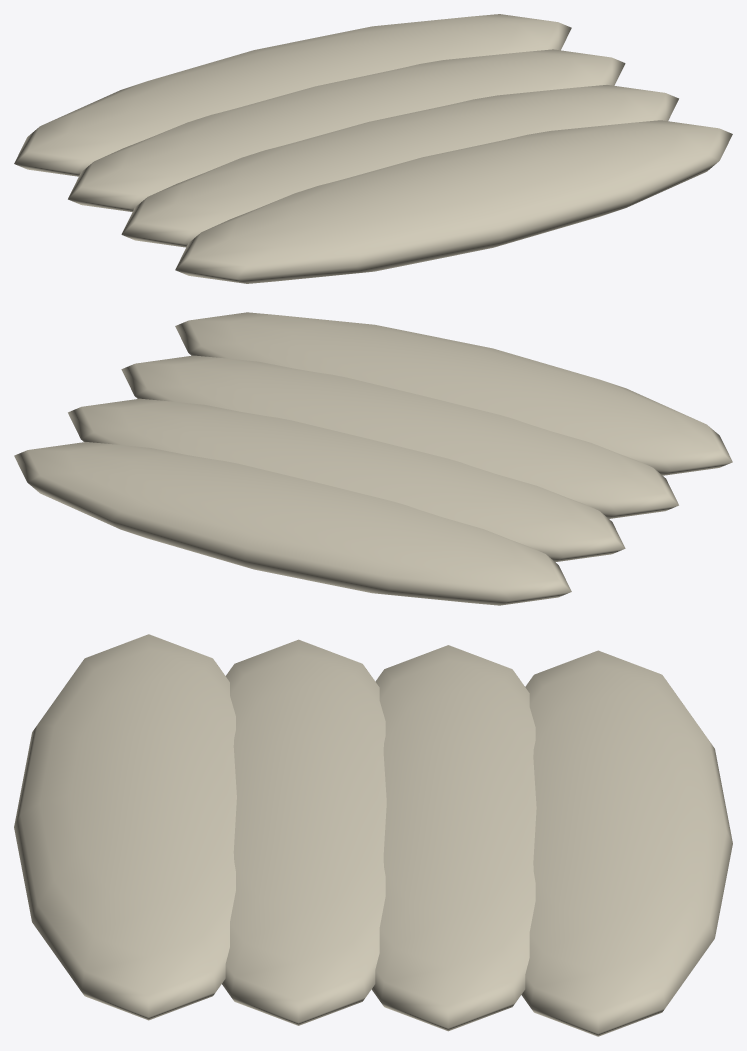
File: open-ocean-and-deep-sea-life-sand-ridge-6e3f48d9__5897.glb
3 views of the same model, one above another, from view 1: azimuth 30°, elevation 25°; view 2: azimuth 150°, elevation 25°; view 3: azimuth 270°, elevation 25° (orthographic). The views are drawn at different scales.
Visible parts, largest first — view 1: sand-ridge; view 2: sand-ridge; view 3: sand-ridge.
Boxes of the visible parts, left/top/right/bottom form: sand-ridge: left=14, top=14, right=732, bottom=283; sand-ridge: left=14, top=312, right=732, bottom=605; sand-ridge: left=14, top=634, right=732, bottom=1036.
Size of the model in its own units: 2.5 by 0.3 by 2.
